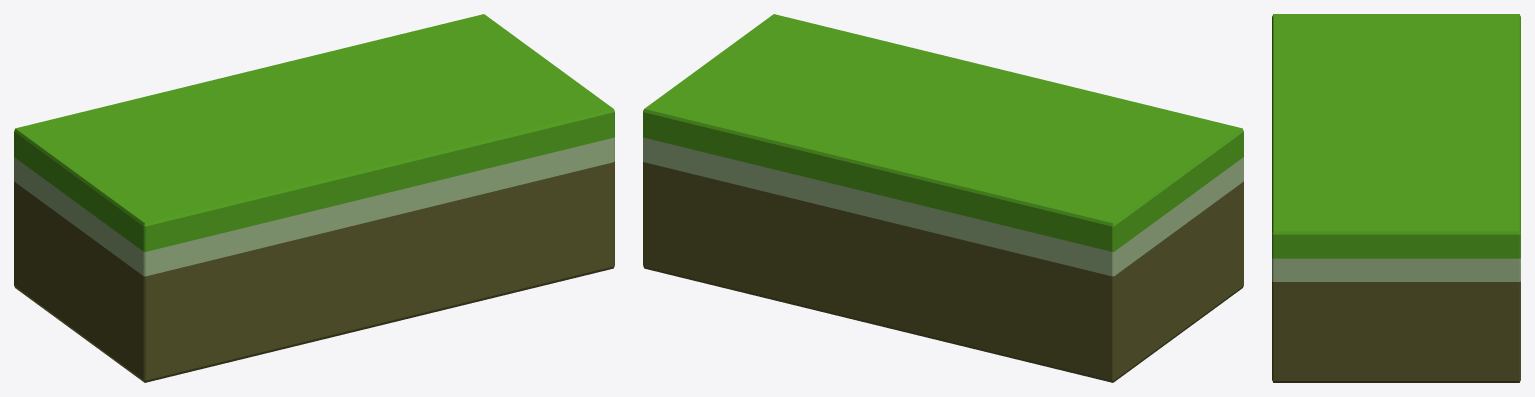
Rendered from Isl_17_Base_4.fbx.
The picture shows the model from 3 angles, left to right: view 1: azimuth 30°, elevation 25°; view 2: azimuth 150°, elevation 25°; view 3: azimuth 270°, elevation 25°; orthographic projection. The views are drawn at different scales.
Visible parts, largest first — view 1: Isl_17_Base_4; view 2: Isl_17_Base_4; view 3: Isl_17_Base_4.
Boxes of the visible parts, x1=… form: Isl_17_Base_4: x1=14, y1=14, x2=614, y2=382; Isl_17_Base_4: x1=643, y1=14, x2=1243, y2=382; Isl_17_Base_4: x1=1272, y1=14, x2=1520, y2=382.
Size of the model in its own units: 606 by 291 by 196.
Materials: 1 (1 with a texture image).
